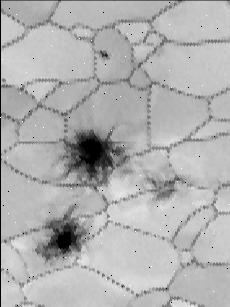good_void: (52, 123, 129, 192), (32, 201, 98, 265), (142, 169, 181, 206), (95, 46, 113, 63), (0, 76, 5, 84)
